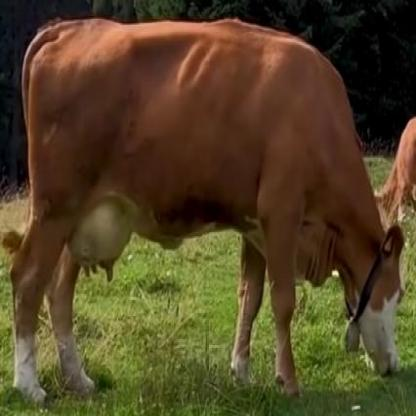cow: (13, 21, 404, 401)
